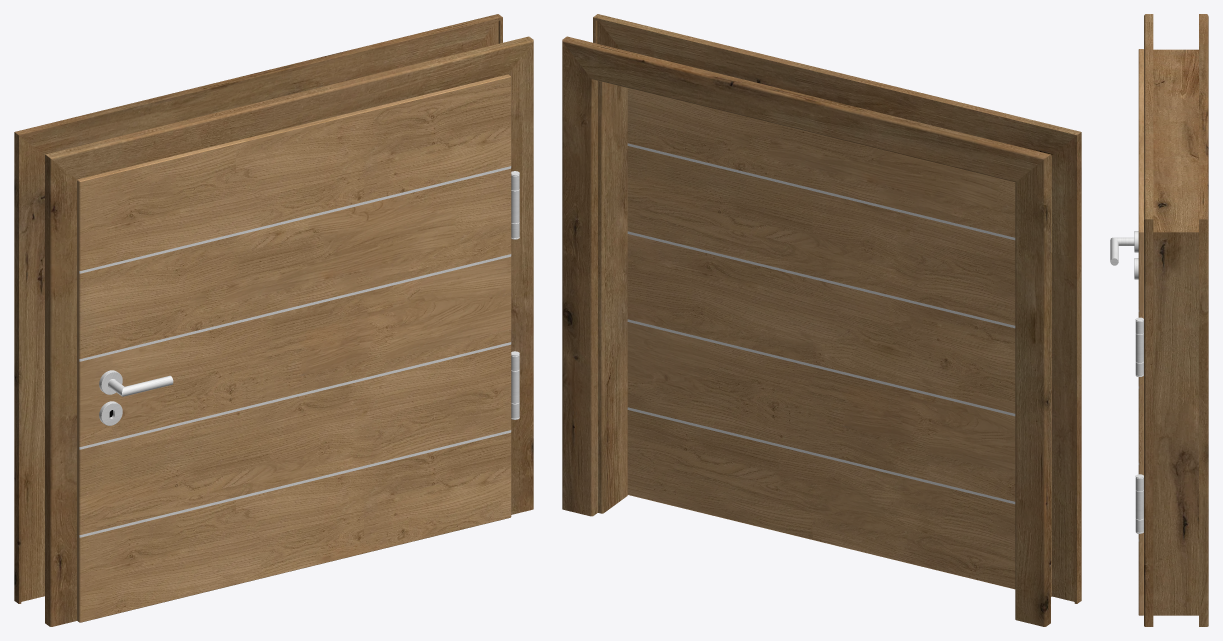
Rendered from zoisitSpike.glb.
3 views of the same model, side by side, from view 1: azimuth 30°, elevation 25°; view 2: azimuth 150°, elevation 25°; view 3: azimuth 270°, elevation 25° (orthographic). The views are drawn at different scales.
Visible parts, largest first — view 1: door, standardFrame, linette, handle, hinge; view 2: door, standardFrame, linette; view 3: standardFrame, door, hinge, handle.
Part boxes in pixels (x1,y1,x2,y2): door: (77, 74, 511, 622); standardFrame: (14, 14, 533, 626); linette: (79, 166, 511, 537); handle: (99, 370, 173, 425); hinge: (511, 171, 519, 419); door: (627, 88, 1015, 589); standardFrame: (562, 14, 1081, 626); linette: (627, 143, 1015, 504); standardFrame: (1144, 14, 1208, 626); door: (1138, 49, 1143, 615); hinge: (1135, 317, 1143, 533); handle: (1110, 231, 1138, 279).
Size of the model in its own units: 1.17 by 1.09 by 0.237.
Materials: 4 (4 with a texture image).
